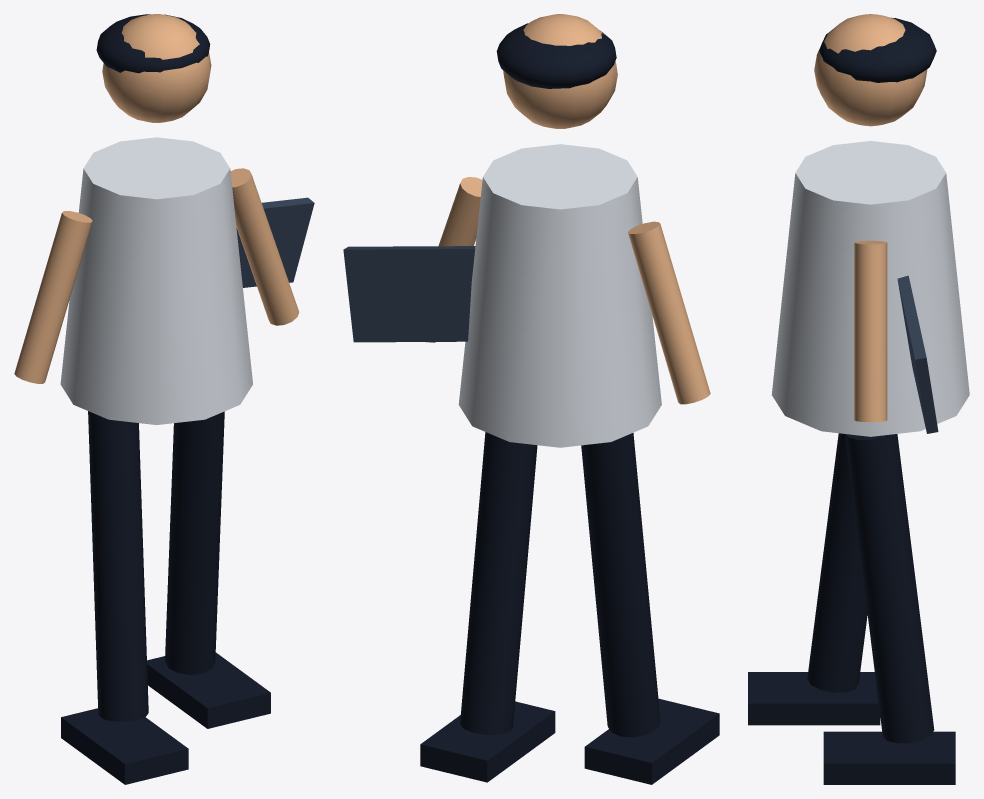
3 renders of one model, left to right at view 1: azimuth 30°, elevation 25°; view 2: azimuth 150°, elevation 25°; view 3: azimuth 270°, elevation 25°, orthographic. The views are drawn at different scales.
Parts seen in each view (by area): view 1: person-office-worker; view 2: person-office-worker; view 3: person-office-worker.
Part boxes in pixels (x1=…): person-office-worker: x1=14, y1=14, x2=314, y2=784; person-office-worker: x1=343, y1=14, x2=719, y2=784; person-office-worker: x1=748, y1=14, x2=969, y2=784.
Size of the model in its own units: 0.8144 by 1.7 by 0.4755.
